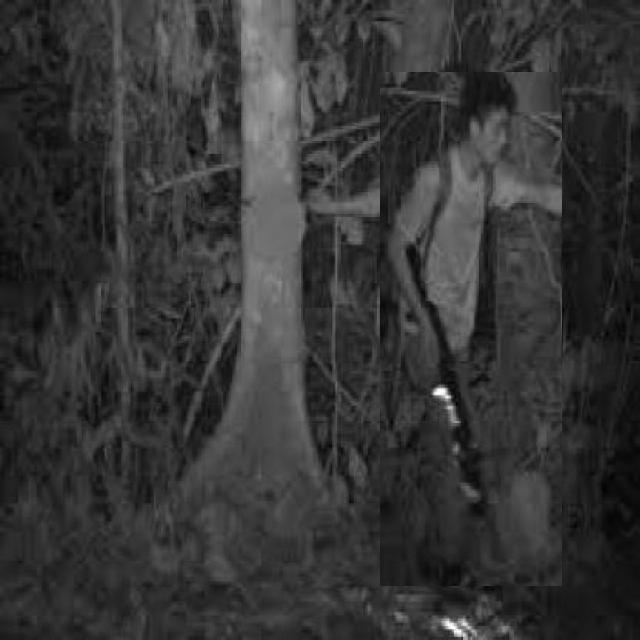Hunter: (380, 72, 562, 586)
Rifle: (418, 224, 571, 522)
